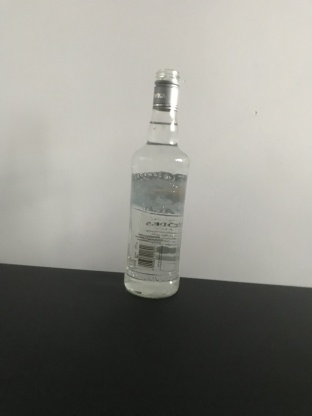nakretka: (151, 65, 180, 113)
